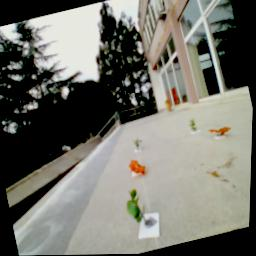herb: (124, 187, 152, 229), (188, 118, 200, 134), (133, 137, 145, 151)
wild: (208, 123, 235, 142), (128, 157, 150, 179)
